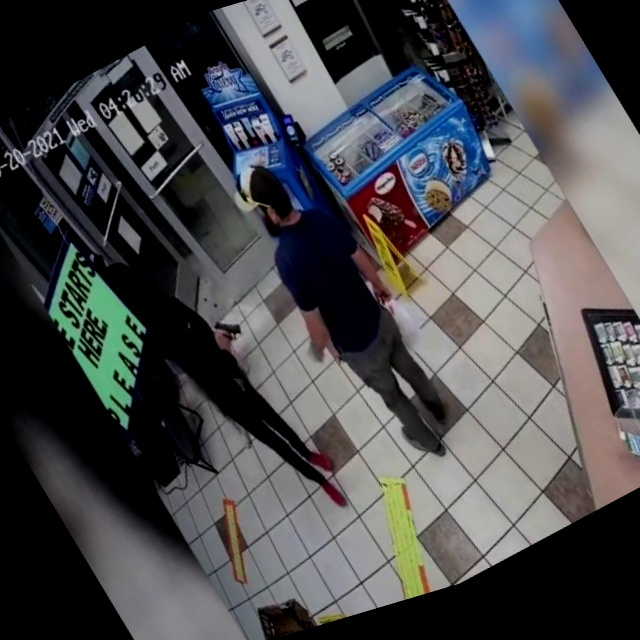gun: (196, 297, 261, 362)
